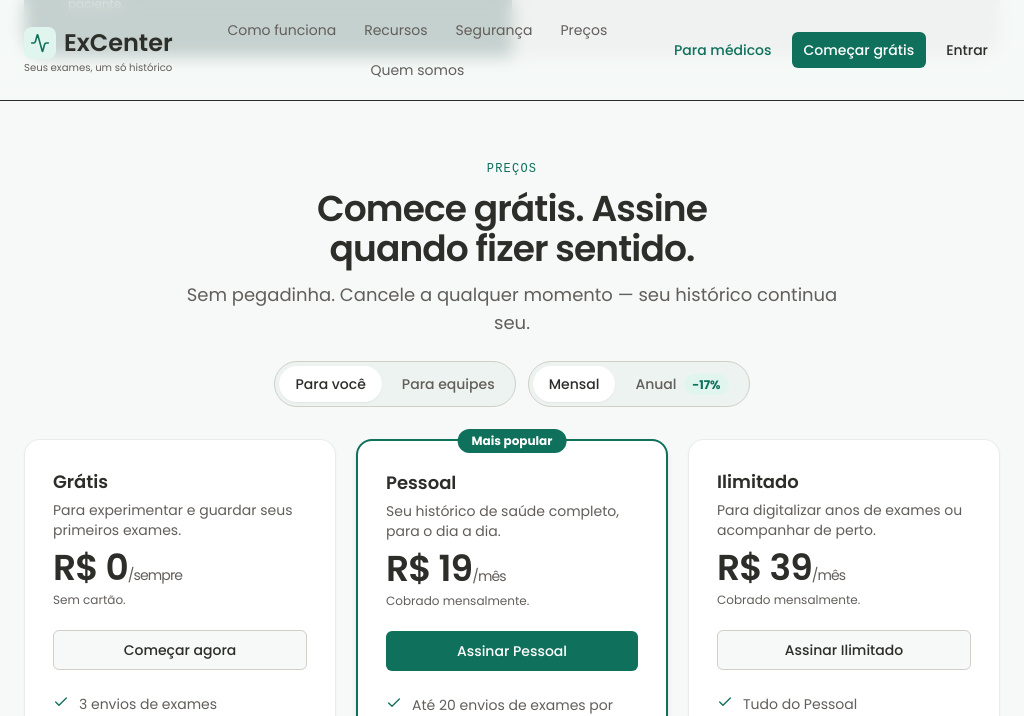
Test: Landing — planos para equipes › cada pacote de equipe soma contas ilimitadas e metade disso em contas Pessoal
(page scrolled)
Click the button "Para equipes": (448, 384) [386,366,511,402]
(page scrolled)
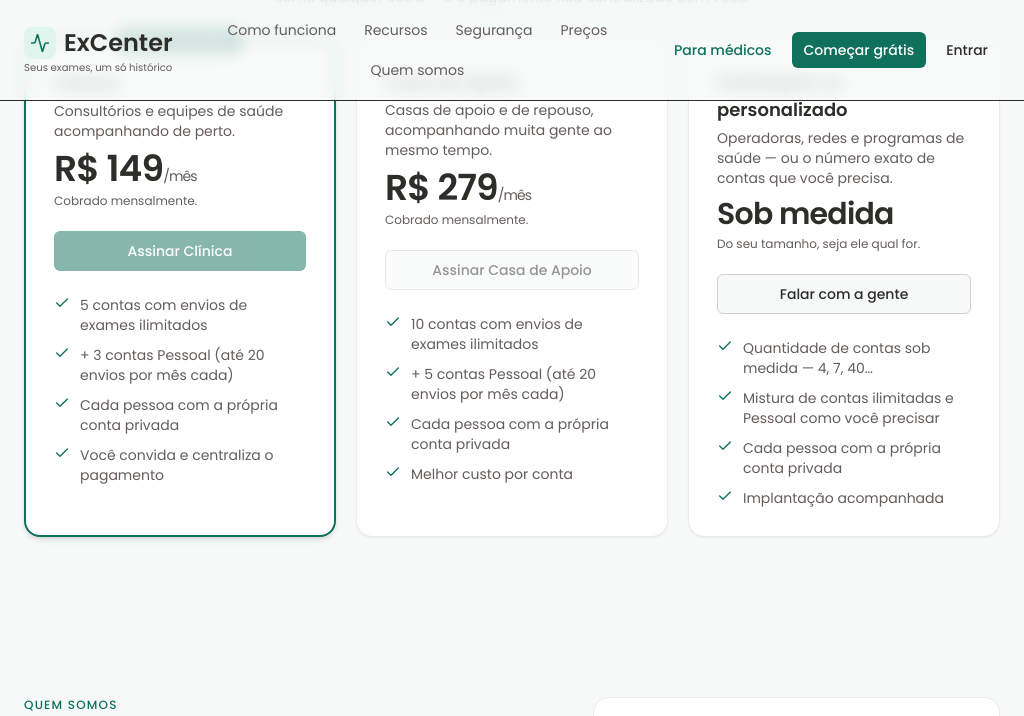
Now the list item "5 contas com envios de exames ilimitados" is shown, box [54,295,247,335]
Now the list item "+ 3 contas Pessoal (até 20 envios por mês cada)" is shown, box [54,345,264,385]
Now the list item "10 contas com envios de exames ilimitados" is shown, box [385,314,583,354]
